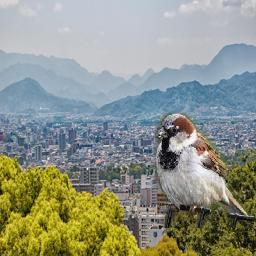Sparrow: (156, 114, 255, 229)
